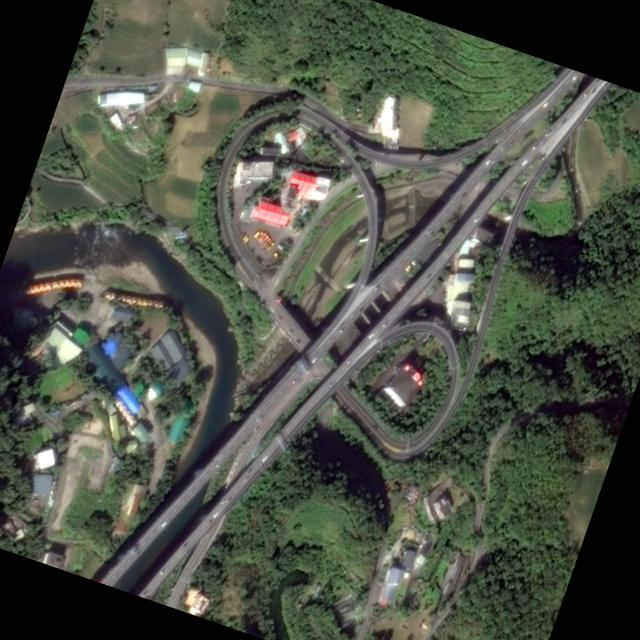large-vehicle: (260, 238, 271, 250), (259, 236, 270, 247), (258, 233, 268, 244), (257, 231, 266, 241), (265, 240, 273, 250)
small-vehicle: (255, 230, 262, 238), (253, 229, 259, 237), (472, 214, 478, 221), (484, 157, 490, 164), (157, 567, 163, 574), (261, 454, 267, 461), (272, 251, 278, 257), (490, 156, 496, 162), (160, 520, 166, 526), (325, 381, 331, 387), (542, 100, 547, 107), (212, 510, 217, 517), (246, 466, 251, 473), (255, 414, 260, 421), (277, 243, 282, 249), (367, 332, 373, 337), (382, 320, 387, 326), (339, 325, 344, 331), (373, 283, 378, 289), (381, 280, 386, 286), (410, 259, 415, 265), (426, 271, 431, 277), (425, 227, 430, 233), (428, 229, 433, 235), (452, 195, 457, 201), (461, 190, 466, 196), (521, 158, 526, 164), (545, 129, 550, 135), (287, 328, 292, 334), (145, 589, 150, 595), (243, 236, 248, 242), (132, 546, 137, 552), (134, 549, 139, 555), (141, 589, 146, 595), (346, 357, 351, 363), (220, 497, 225, 503), (291, 377, 296, 383), (310, 356, 315, 362), (532, 142, 537, 147), (583, 90, 588, 95), (571, 74, 576, 79), (294, 337, 299, 342), (241, 234, 246, 239), (240, 231, 245, 236), (219, 450, 224, 455), (215, 461, 220, 466), (225, 496, 230, 501), (243, 475, 248, 480), (357, 306, 361, 312), (276, 314, 280, 320), (182, 541, 186, 547), (339, 320, 343, 325), (406, 264, 410, 269), (508, 139, 512, 144), (561, 117, 565, 122), (206, 519, 210, 524), (590, 87, 594, 91), (404, 266, 407, 271)
